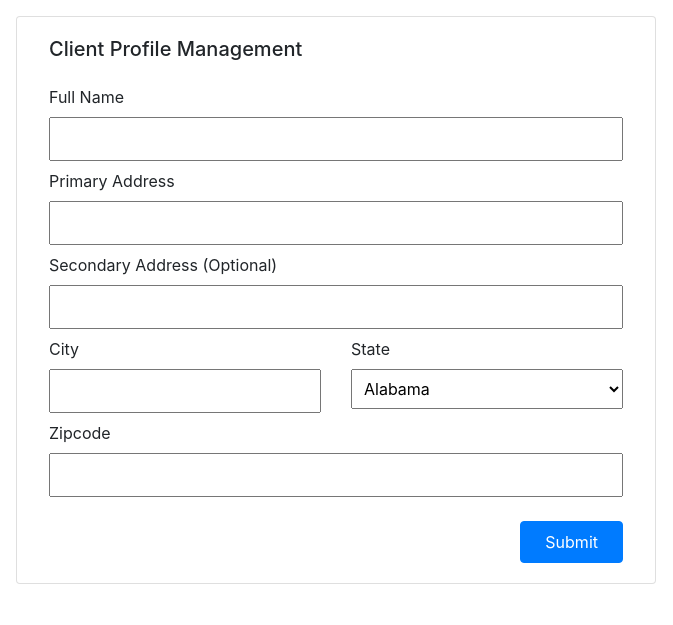
it: Profile component › City - exceed string input
The image size is (673, 625).
Type "abcdefghijklmnopqrstuvwxyqabcdefghijklmnopqrstuvwxyqabcdefghijklmnopqrstuvwxyqabcdefghijklmnopqrstuvwxyq" into the field labelled "City" at (185, 391), box [49,369,321,413]
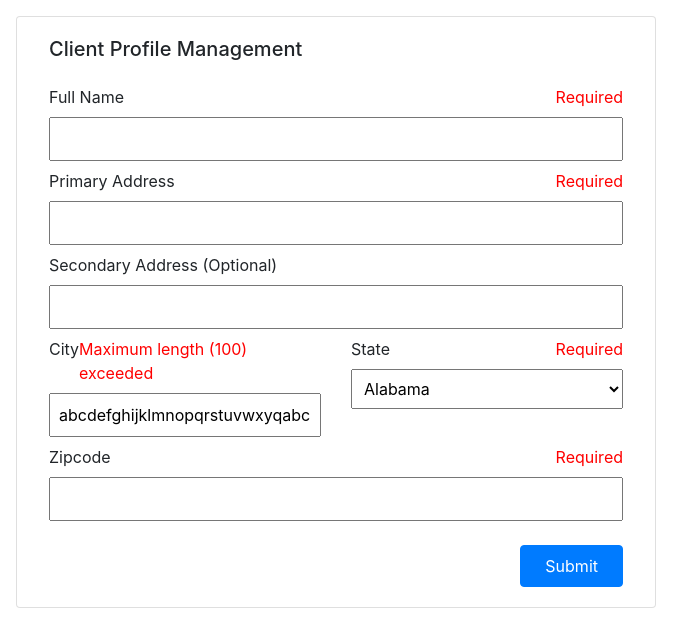
expect the text "Maximum length (100) exceeded" is shown: met, box [79,339,247,383]
